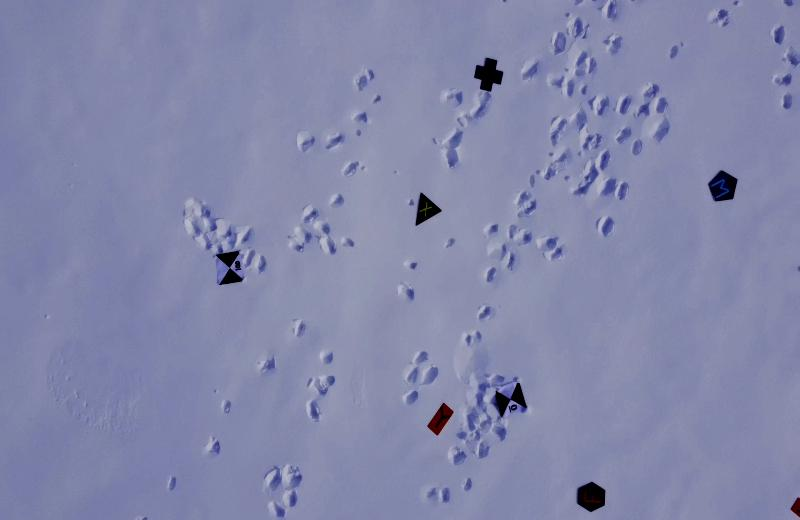Cross: (472, 55, 504, 94)
Hexagon: (574, 480, 608, 515)
Pentagon: (706, 168, 740, 204)
Rectangle: (426, 401, 457, 437)
Triangle: (412, 188, 443, 231)
